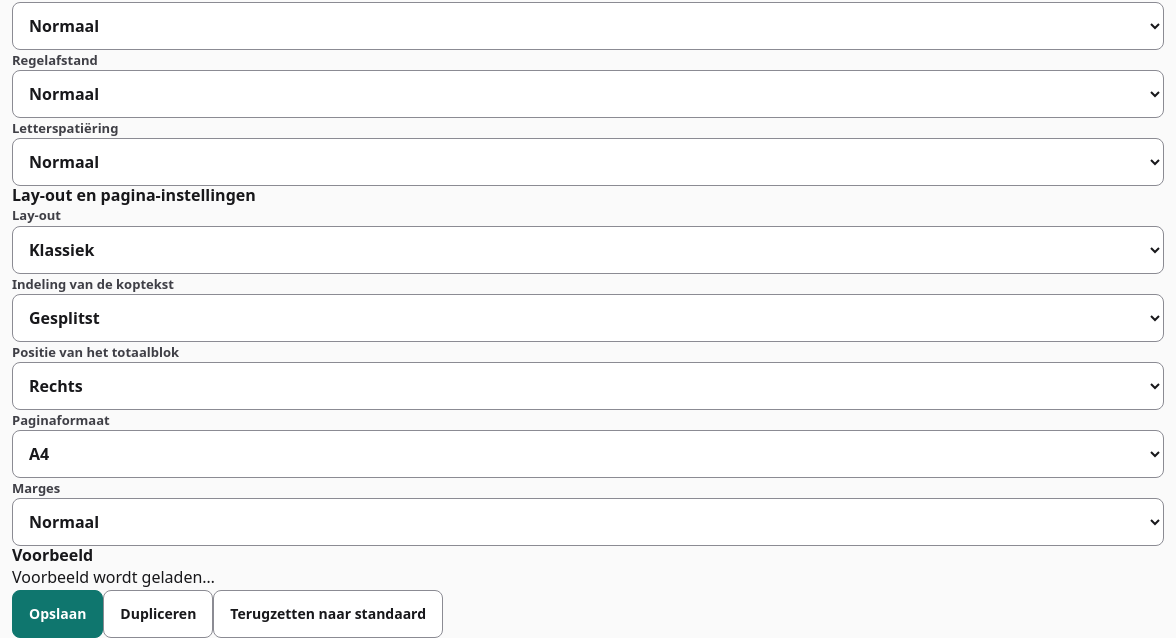
Test case: a 422 shows each violation inline at its own location — FR-TPL-009 › places a column violation next to that column's row, and a language-scoped tag violation next to that language's pill
(page scrolled)
Step 1. Click the button with test id "template-save" → (58, 614), box [12, 590, 103, 637]
(page scrolled)
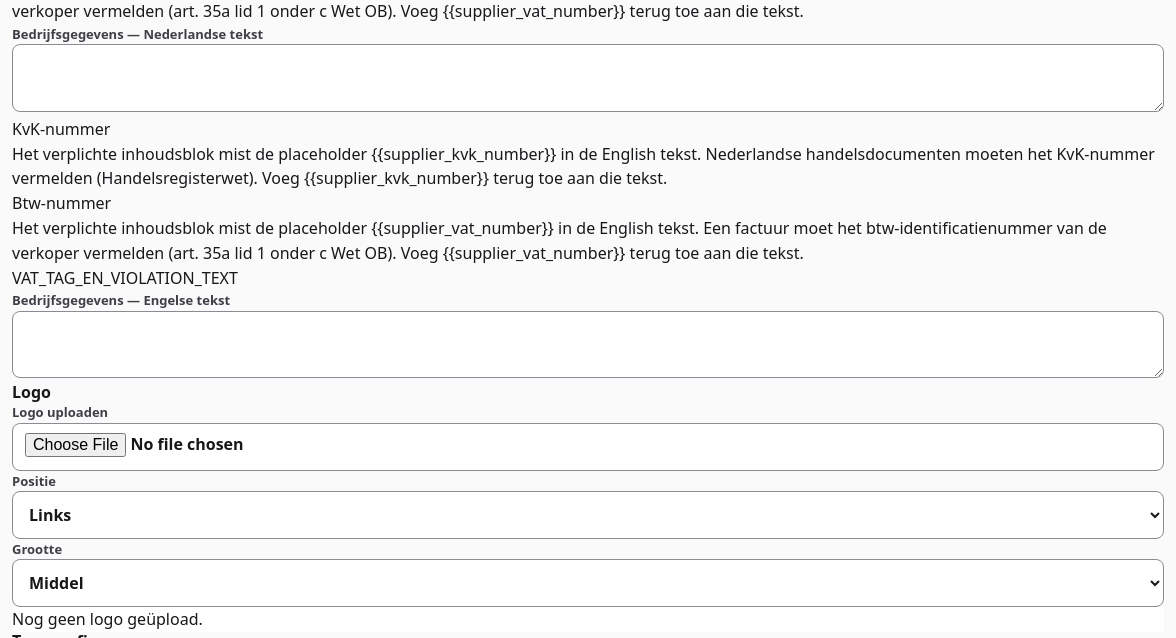
Result: the message with test id "template-legal-identity-en-vat-violation" reads "VAT_TAG_EN_VIOLATION_TEXT" at [12, 267, 238, 289]
